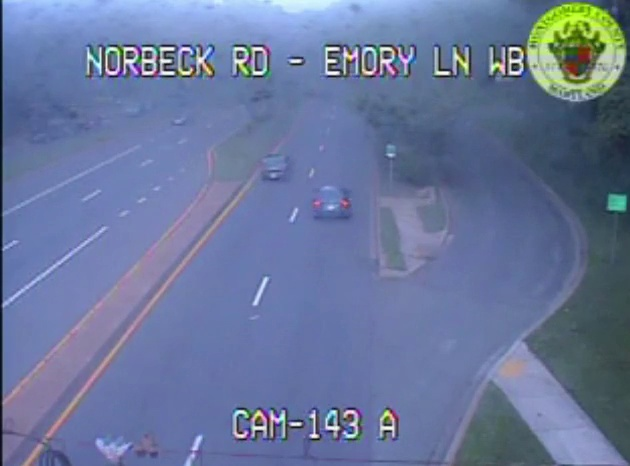car: (313, 188, 349, 218), (261, 154, 290, 182)
